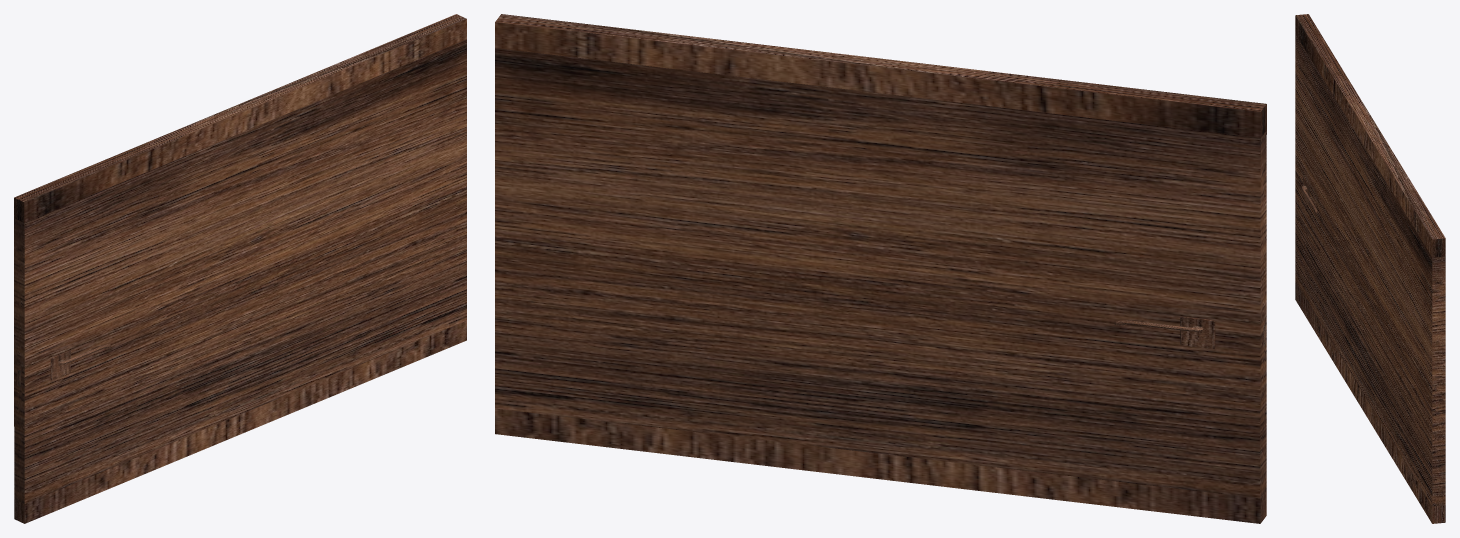
The model's file is puertaEntrada1.obj.
3 views of the same model, side by side, from view 1: azimuth 30°, elevation 25°; view 2: azimuth 150°, elevation 25°; view 3: azimuth 270°, elevation 25° (orthographic). The views are drawn at different scales.
Parts seen in each view (by area): view 1: Door1:Mesh group; view 2: Door1:Mesh group; view 3: Door1:Mesh group.
Boxes of the visible parts, x1,y1,x2,y2 form: Door1:Mesh group: (14,14,466,523); Door1:Mesh group: (495,14,1266,523); Door1:Mesh group: (1295,14,1445,523).
Bounding box in the file's own units: 5.52 × 3.25 × 1.56.
1 material, 1 textured.
